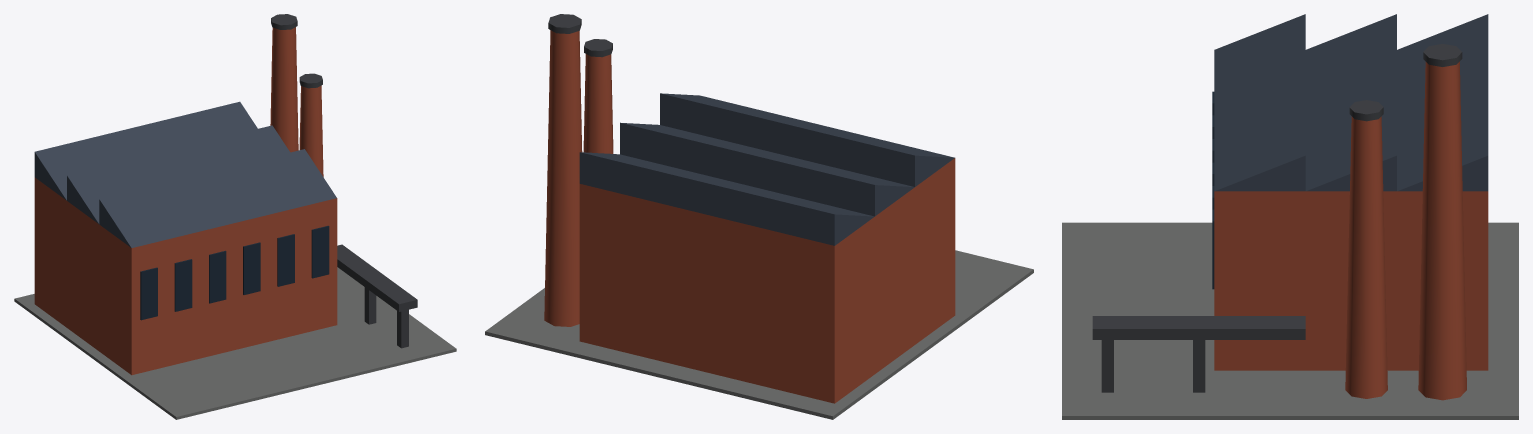
File: bld_special_factory_a05_lod1.glb
3 renders of one model, left to right at view 1: azimuth 30°, elevation 25°; view 2: azimuth 150°, elevation 25°; view 3: azimuth 270°, elevation 25°, orthographic. The views are drawn at different scales.
Visible parts, largest first — view 1: body; view 2: body; view 3: body.
Boxes of the visible parts, <box> form: body: <box>14,14,456,419</box>; body: <box>485,14,1033,419</box>; body: <box>1062,14,1518,419</box>.
Size of the model in its own units: 15 by 12.4 by 15.
